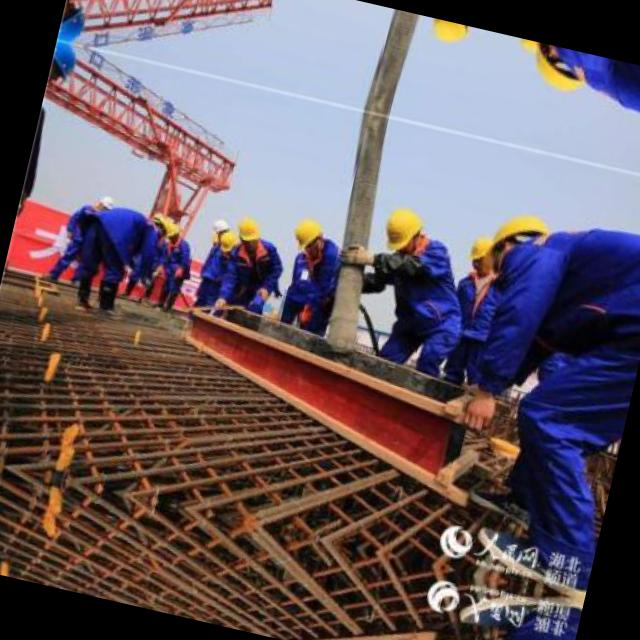helmet: (458, 215, 512, 289), (489, 206, 550, 266), (528, 42, 588, 97), (378, 198, 428, 258), (286, 210, 327, 258), (425, 17, 472, 54), (230, 210, 271, 252), (508, 37, 554, 74), (48, 40, 79, 87), (57, 0, 88, 45), (215, 229, 243, 258), (91, 192, 118, 218), (146, 212, 170, 240), (206, 214, 228, 236), (163, 220, 183, 244)
